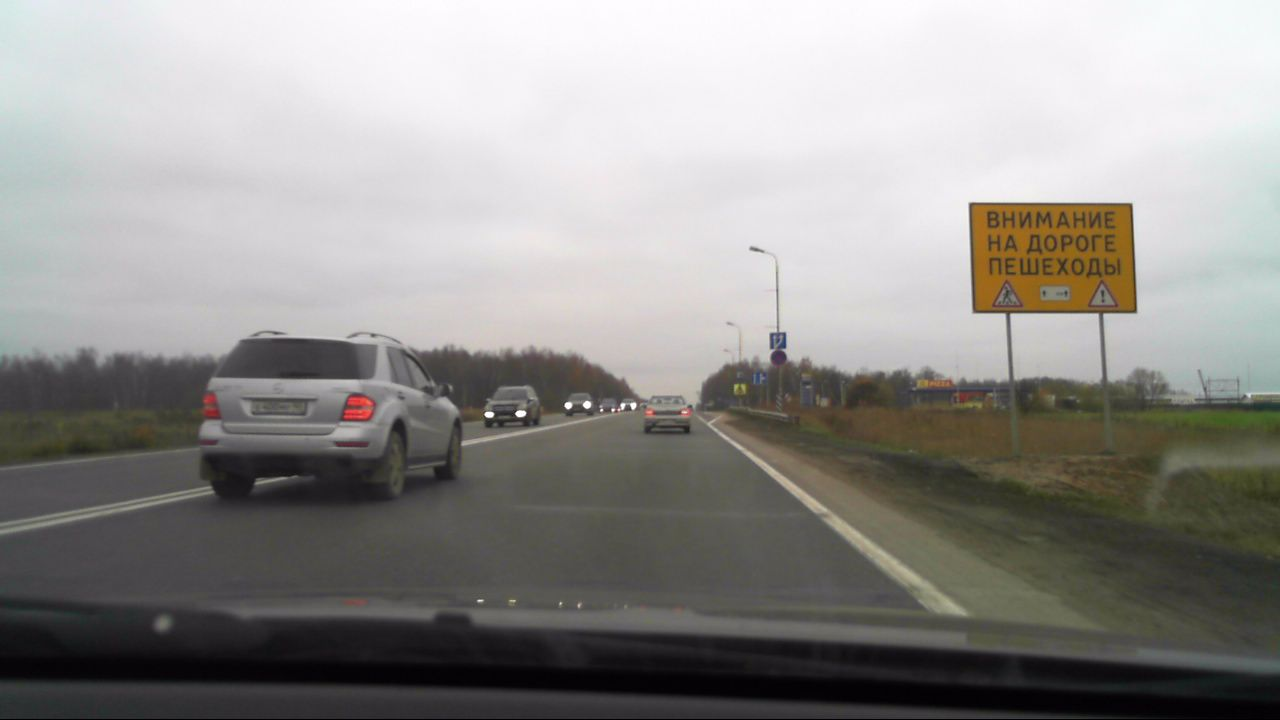No Parking: (771, 348, 787, 365)
